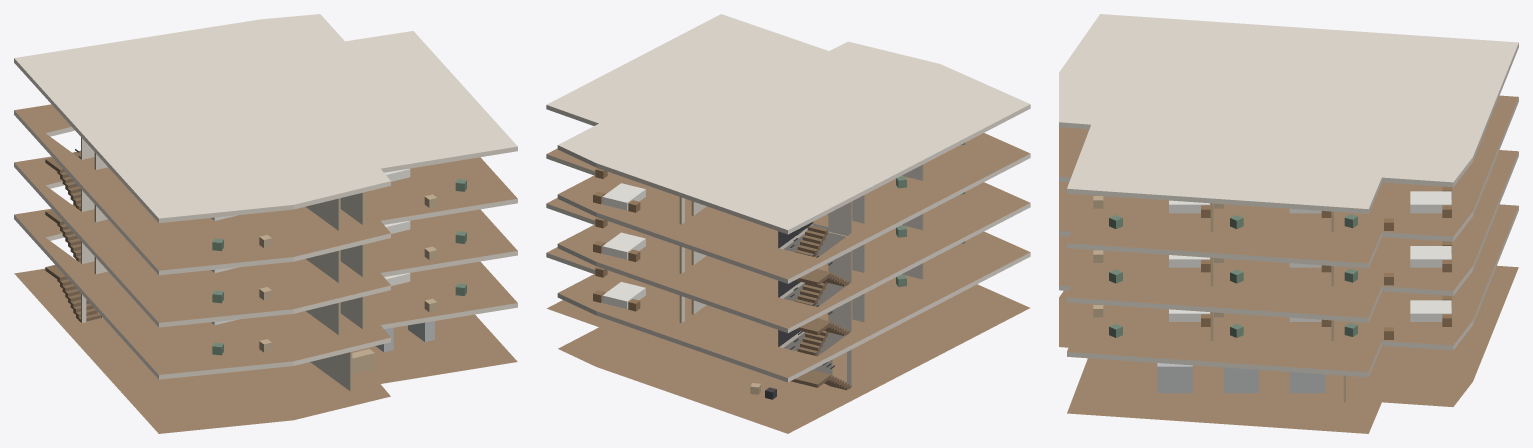
File: interior.glb
3 renders of one model, left to right at view 1: azimuth 30°, elevation 25°; view 2: azimuth 150°, elevation 25°; view 3: azimuth 270°, elevation 25°, orthographic. The views are drawn at different scales.
Visible parts, largest first — view 1: slabs, partitions, stair, coarse-s0, coarse-s3, coarse-s1, coarse-s2; view 2: slabs, partitions, stair, coarse-s1, coarse-s2, coarse-s3; view 3: slabs, coarse-s0, coarse-s3, coarse-s2, coarse-s1, partitions.
Boxes of the visible parts, box(x1,y1,x2,y2) form: slabs: box(14, 14, 517, 433); partitions: box(81, 137, 364, 391); stair: box(45, 149, 100, 322); coarse-s0: box(352, 321, 434, 374); coarse-s3: box(211, 168, 466, 251); coarse-s1: box(211, 273, 466, 355); coarse-s2: box(211, 221, 466, 303); slabs: box(546, 14, 1030, 433); partitions: box(679, 164, 923, 387); stair: box(778, 222, 851, 390); coarse-s1: box(593, 241, 965, 311); coarse-s2: box(593, 192, 965, 261); coarse-s3: box(593, 143, 965, 212); slabs: box(1059, 14, 1518, 433); coarse-s0: box(1157, 363, 1325, 393); coarse-s3: box(1093, 186, 1451, 230); coarse-s2: box(1093, 241, 1451, 285); coarse-s1: box(1093, 295, 1451, 339); partitions: box(1210, 203, 1345, 402).
Size of the model in its own units: 22.31 by 12 by 22.21.
